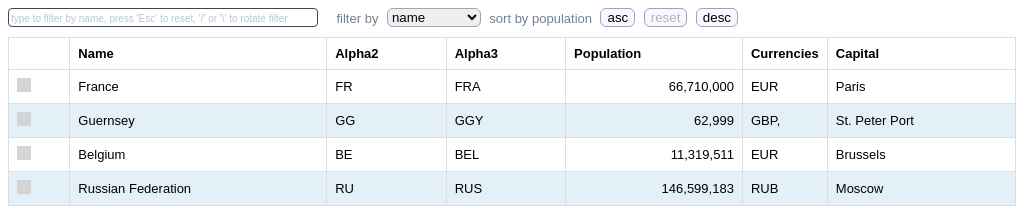
Test: countries table tests › sorting tests › should sort descending
Click the button "desc" at point(717, 18), box [696,8,738,27]
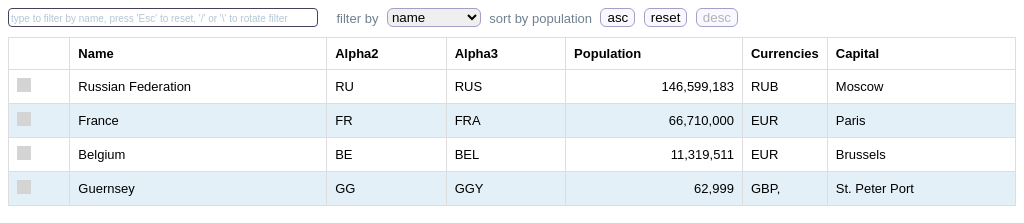
Check: the cell with test id "first-row" reads "RUS", box [455,79,482,94]
Check: the button "desc" is disabled, box [696,8,738,27]
Check: the button "reset" is enabled, box [644,8,687,27]
